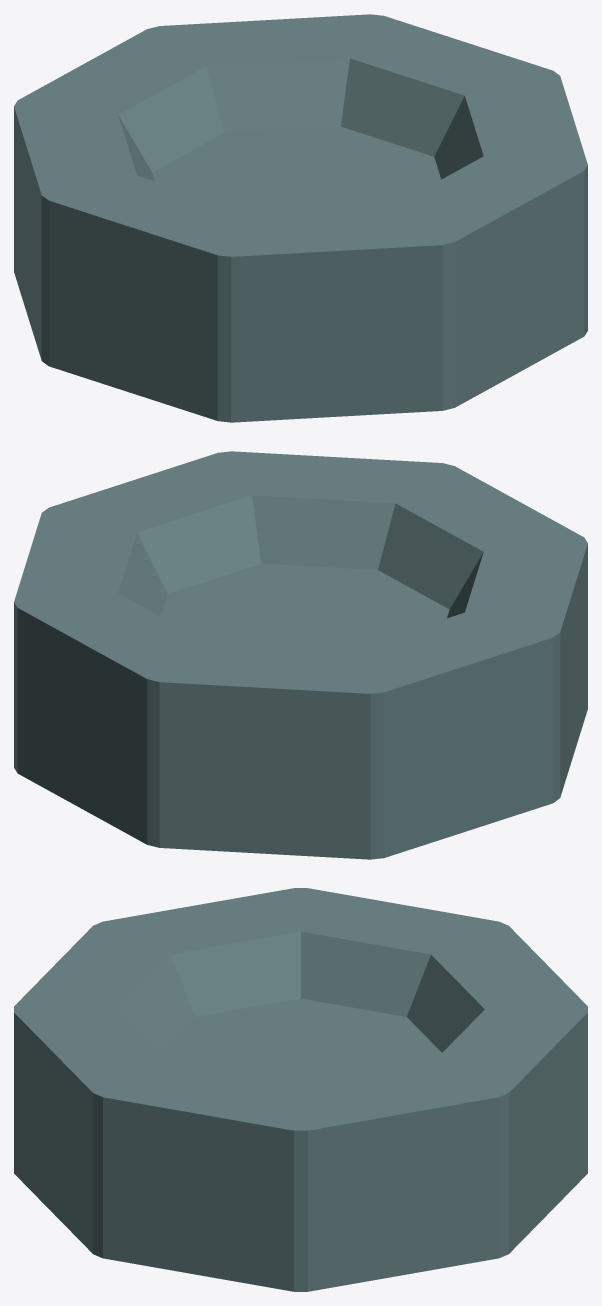
Rendered from SM_LP_RefinedMetal_5.fbx.
3 views of the same model, one above another, from view 1: azimuth 30°, elevation 25°; view 2: azimuth 150°, elevation 25°; view 3: azimuth 270°, elevation 25° (orthographic). The views are drawn at different scales.
Visible parts, largest first — view 1: SM_LP_RefinedMetal_5; view 2: SM_LP_RefinedMetal_5; view 3: SM_LP_RefinedMetal_5.
Boxes of the visible parts, x1,y1,x2,y2 form: SM_LP_RefinedMetal_5: (14, 14, 587, 422); SM_LP_RefinedMetal_5: (14, 451, 587, 859); SM_LP_RefinedMetal_5: (14, 888, 587, 1291).
Bounding box in the file's own units: 0.3096 × 0.0959 × 0.3096.
